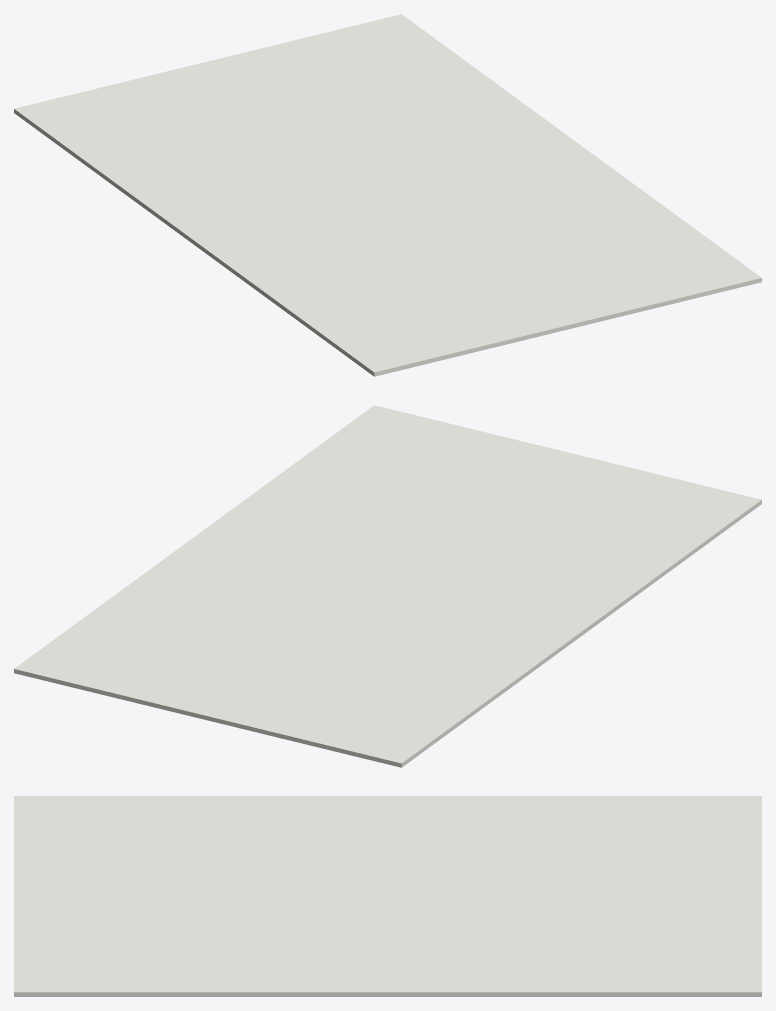
Rendered from techo.obj.
3 renders of one model, top to bottom at view 1: azimuth 30°, elevation 25°; view 2: azimuth 150°, elevation 25°; view 3: azimuth 270°, elevation 25°, orthographic. The views are drawn at different scales.
Parts seen in each view (by area): view 1: Cube.022; view 2: Cube.022; view 3: Cube.022.
Boxes of the visible parts, x1,y1,x2,y2 form: Cube.022: [14, 14, 761, 376]; Cube.022: [14, 405, 761, 767]; Cube.022: [14, 796, 761, 996].
Size of the model in its own units: 43.26 by 0.4581 by 69.65.
Materials: 2 (2 with a texture image).
